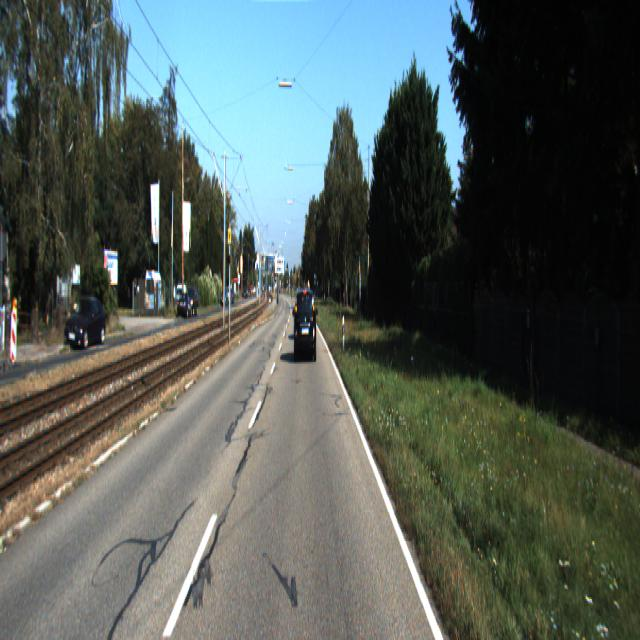Car: (66, 300, 106, 355), (295, 290, 317, 365), (144, 268, 166, 316), (177, 291, 195, 318)
